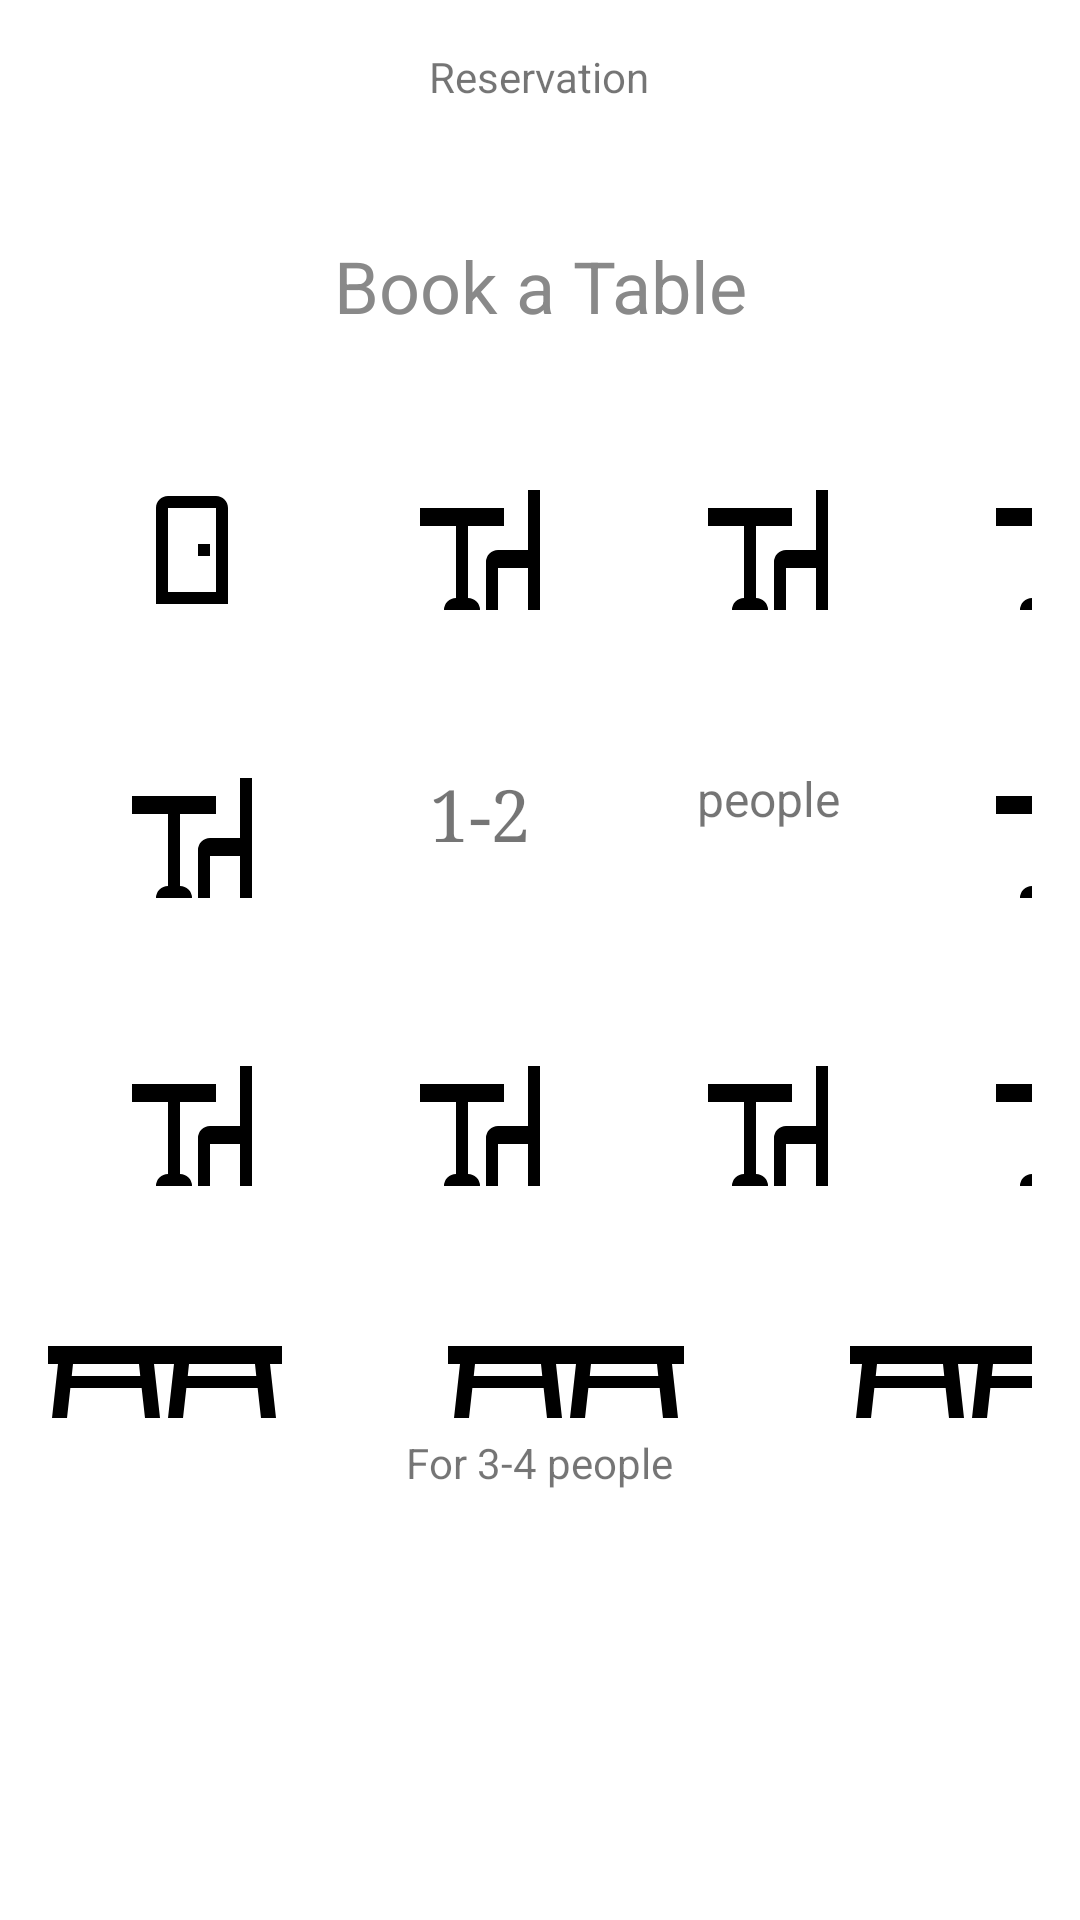

Icons on this 1080 x 1920 Android screen, each with the point to tap as (x,y):
Door: (192,550)
Table 2: (480,550)
Table 21: (192,838)
Table 25: (192,1126)
Table 26: (480,1126)
Table 27: (768,1126)
Table 3: (768,550)
